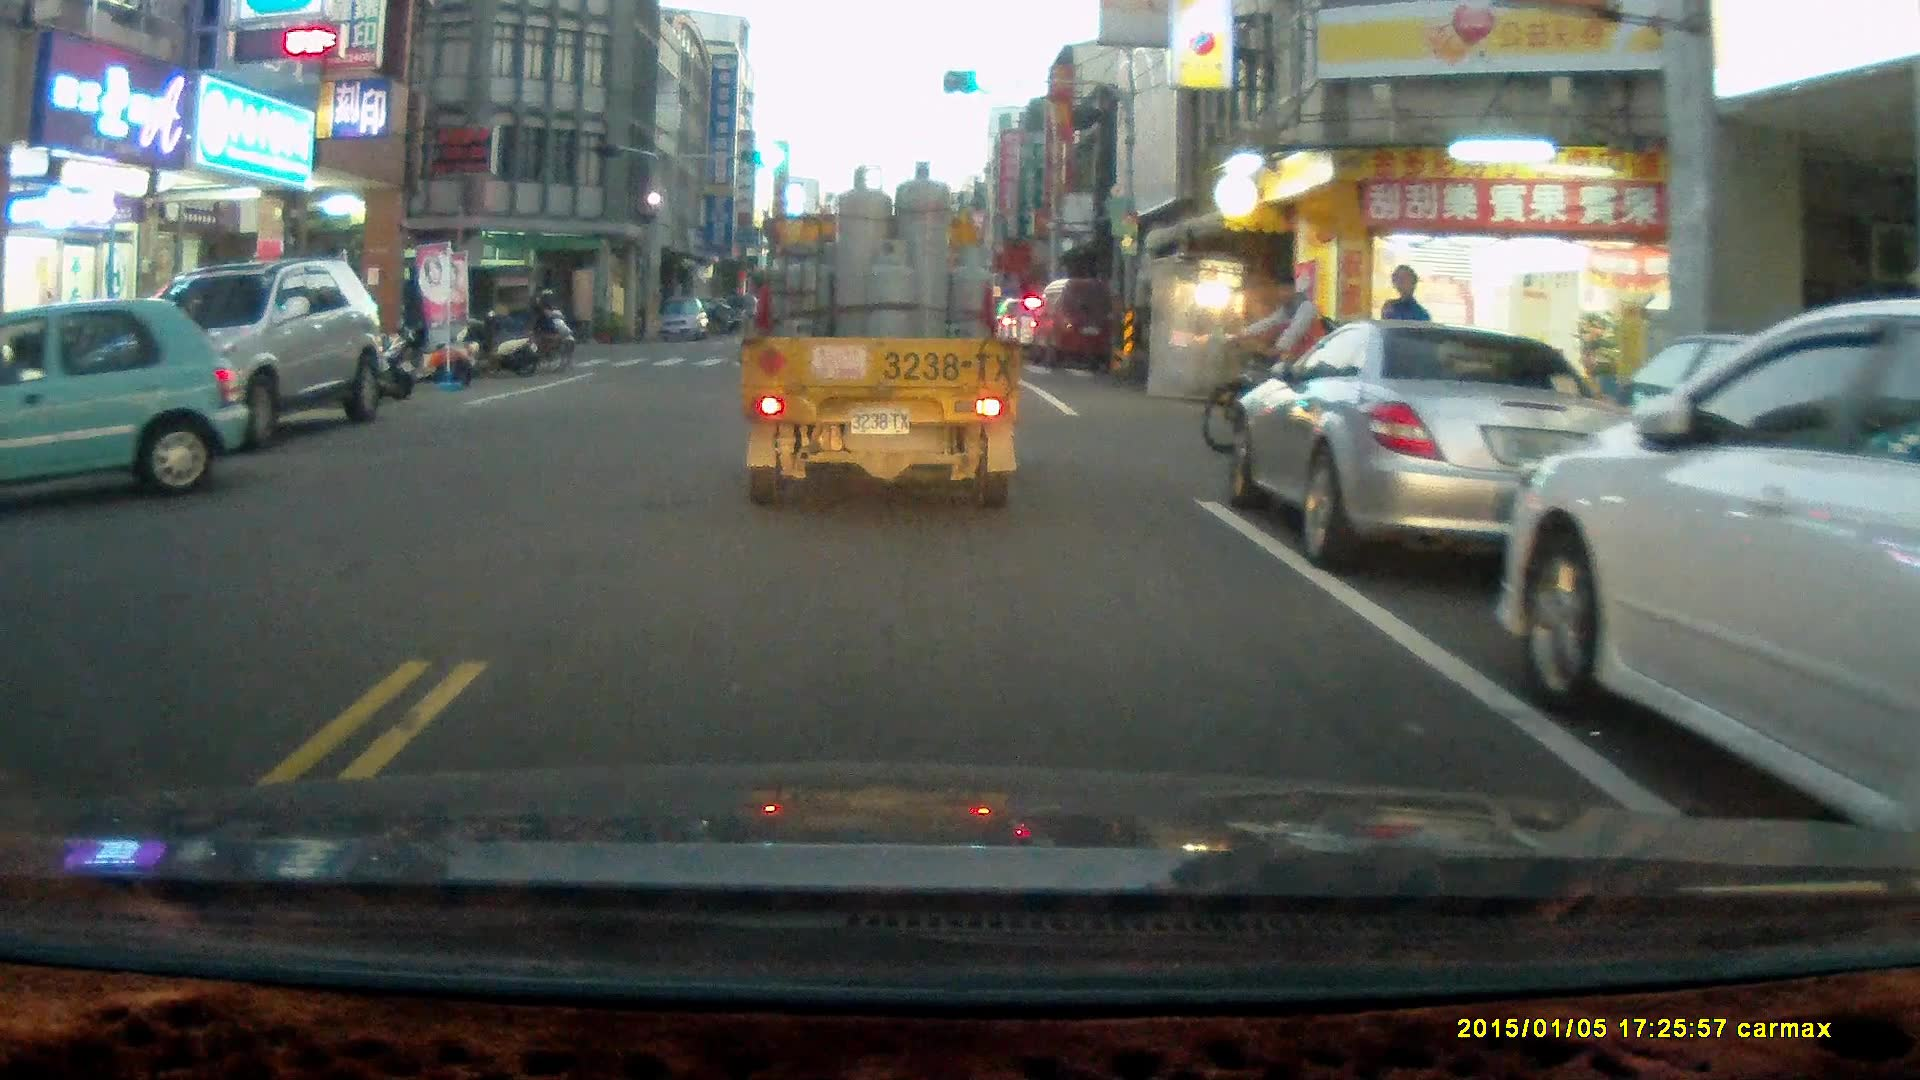rider: (1201, 270, 1365, 457), (515, 283, 578, 360)
vehicle: (1500, 296, 1920, 866), (1226, 324, 1651, 576), (739, 162, 1028, 515), (1, 296, 249, 506), (113, 257, 392, 445), (356, 261, 542, 365), (1034, 273, 1137, 373), (656, 297, 709, 345)
